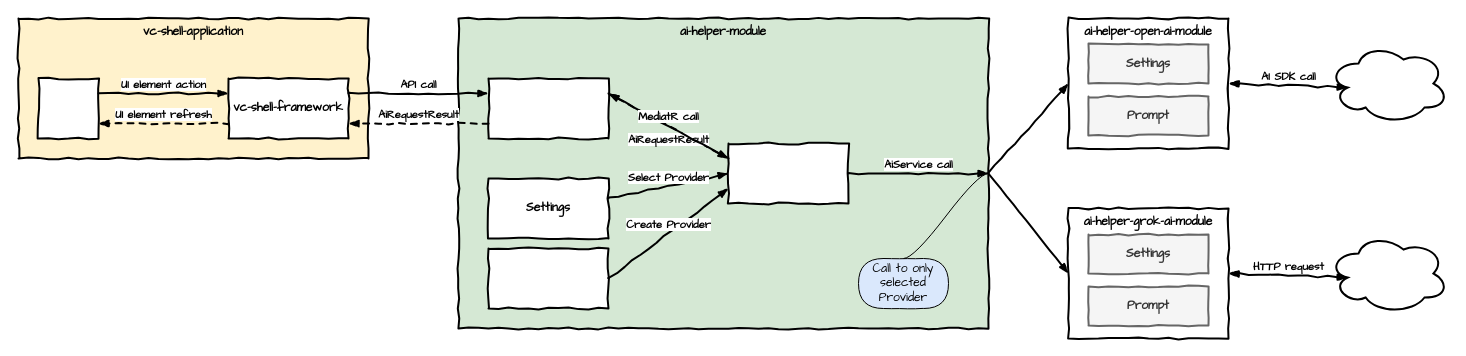
The diagram is 1466 pixels wide and 356 high, and some of its shapes have lost their labels. Each missing label, with the centre of its shape:
"API Controller" belongs at [548,108].
"Command Handler" belongs at [788,173].
"GrokAI" belongs at [1388,273].
"OpenAI" belongs at [1388,83].
"Provider Factory" belongs at [548,278].
"UI" belongs at [68,108].
